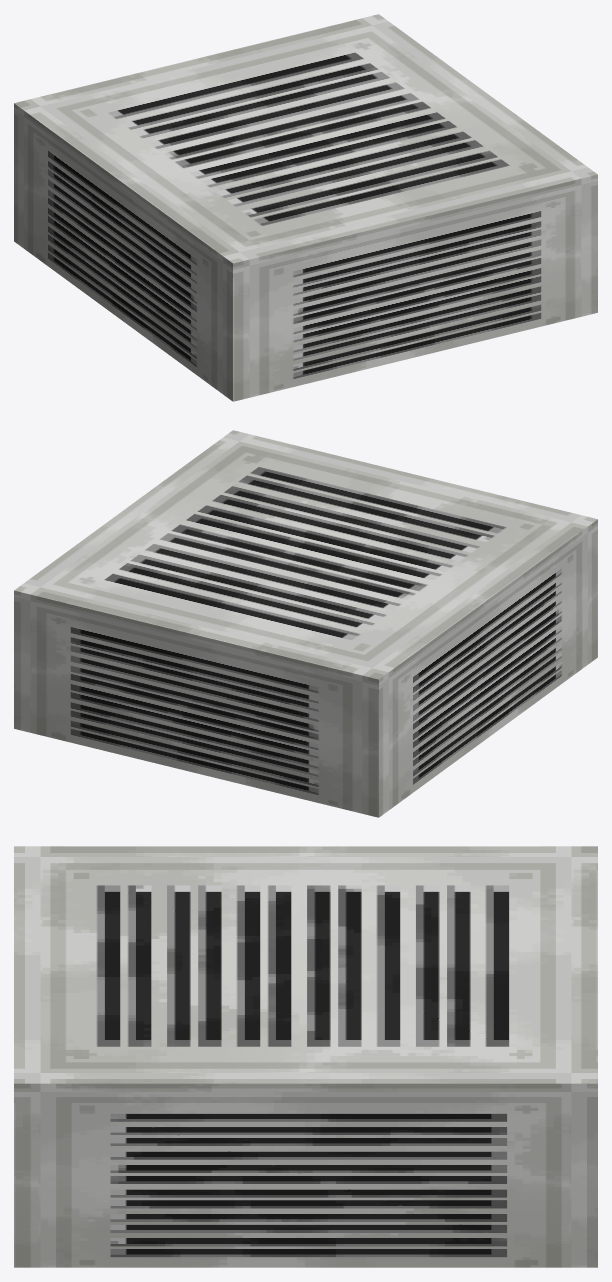
Rendered from CeilingVent.fbx.
The picture shows the model from 3 angles, top to bottom: view 1: azimuth 30°, elevation 25°; view 2: azimuth 150°, elevation 25°; view 3: azimuth 270°, elevation 25°; orthographic projection. The views are drawn at different scales.
Parts seen in each view (by area): view 1: CeilingVentTemplate; view 2: CeilingVentTemplate; view 3: CeilingVentTemplate.
Part boxes in pixels (x1,y1,x2,y2): CeilingVentTemplate: (14,14,597,401); CeilingVentTemplate: (14,430,597,817); CeilingVentTemplate: (14,846,597,1267).
Size of the model in its own units: 550 by 209 by 572.
